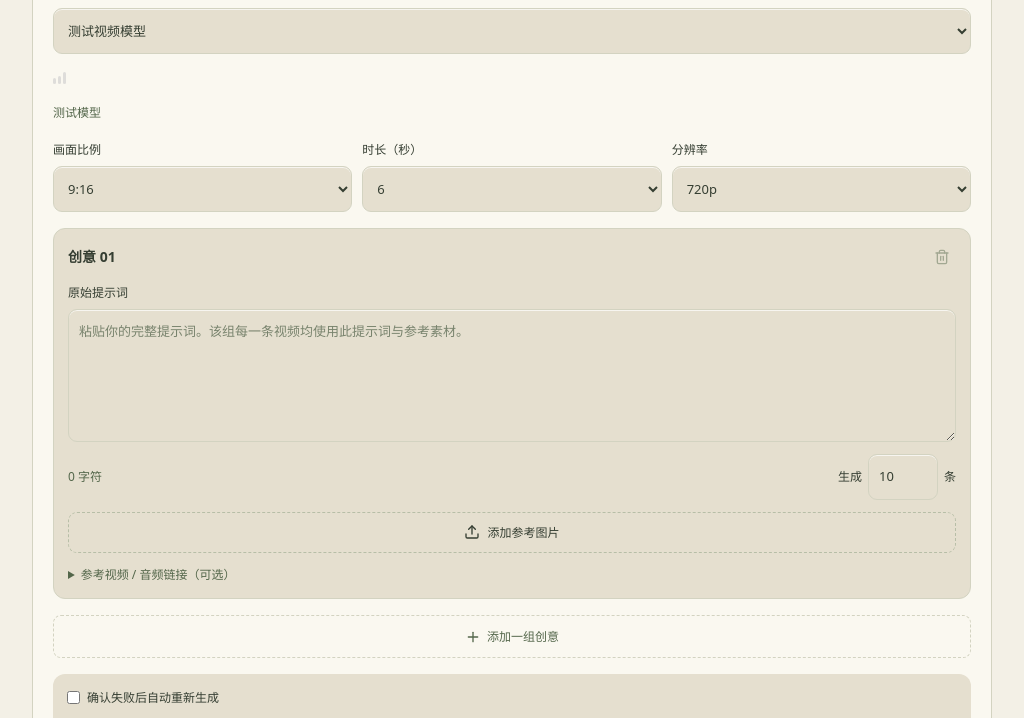
Test: batch page form and prepaid confirmation › invalidates a displayed quote after editing and exposes the retry limit choice
(page scrolled)
Type "原词" into the text box labelled "原始提示词" at (512, 376), box [68,309,956,442]
(page scrolled)
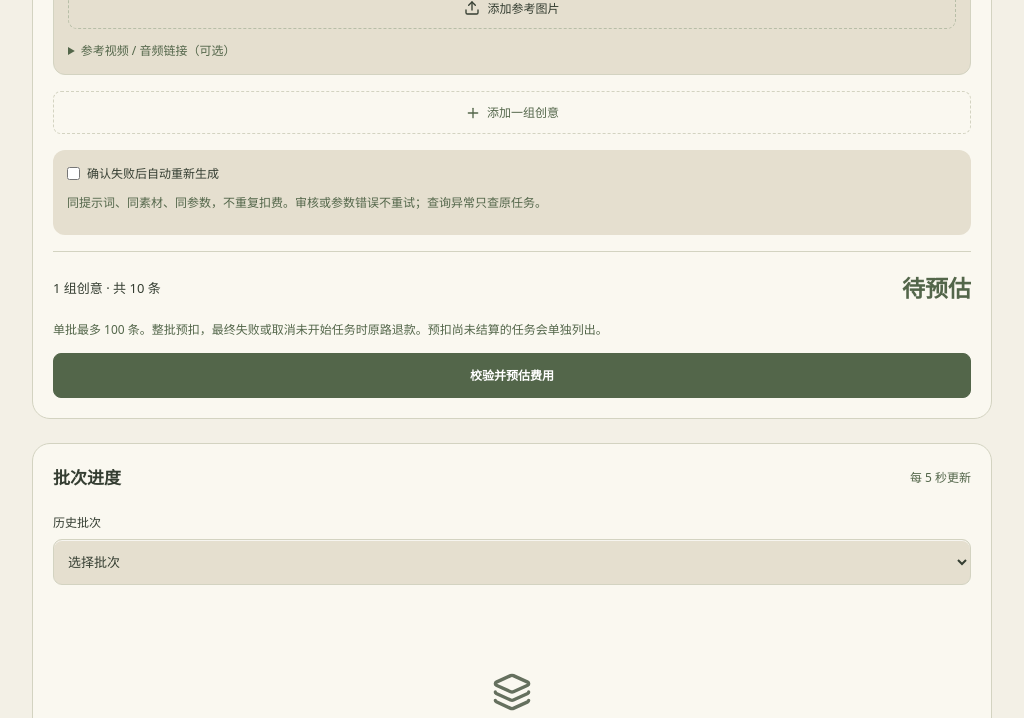
Click the button "校验并预估费用" at (512, 375), box [53,352,971,398]
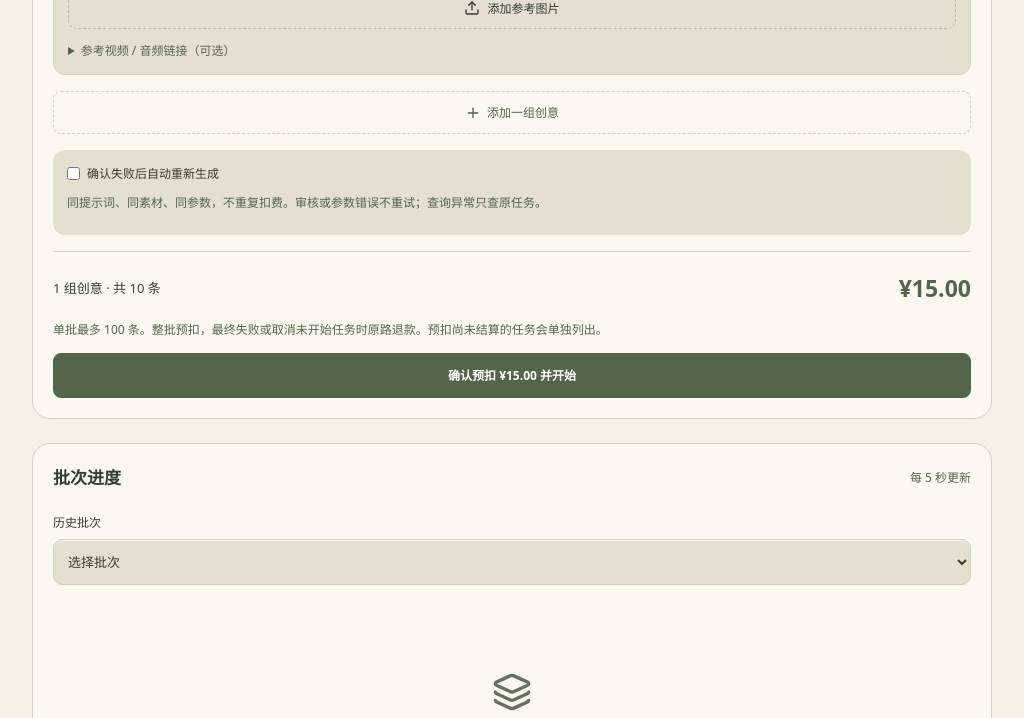
Result: the button "确认预扣 ¥15.00 并开始" is shown at [53,352,971,398]
Click the checkbox labelled "确认失败后自动重新生成" at (74, 174), box [67,167,80,180]
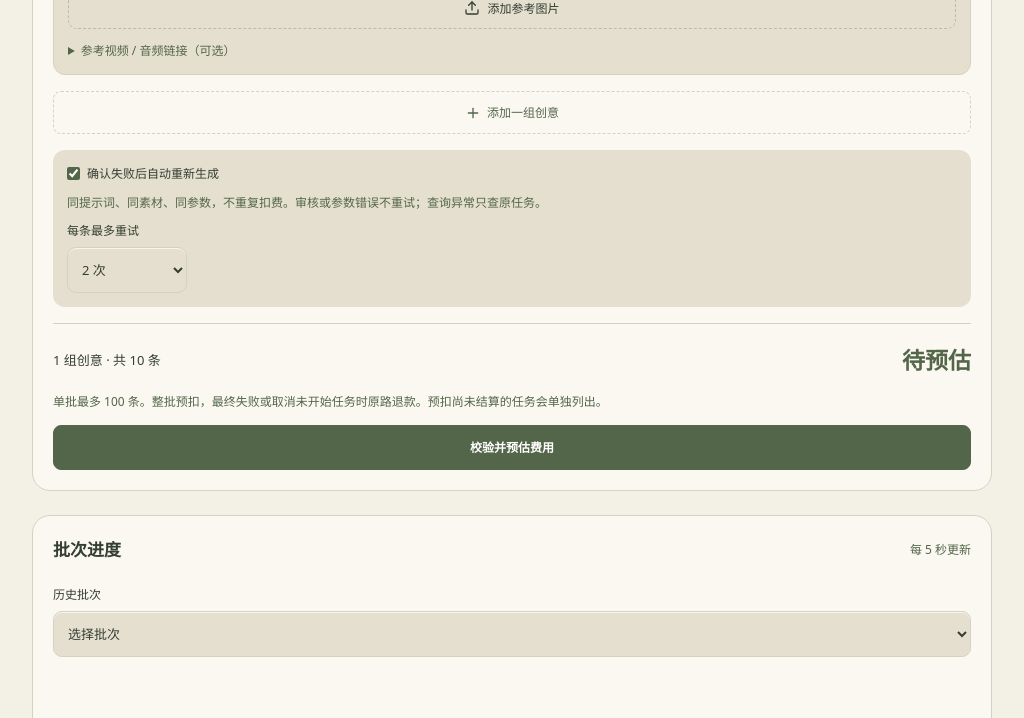
Result: the button "确认预扣" is gone
Result: the dropdown labelled "每条最多重试" shows "2 次" at [67,247,187,293]
